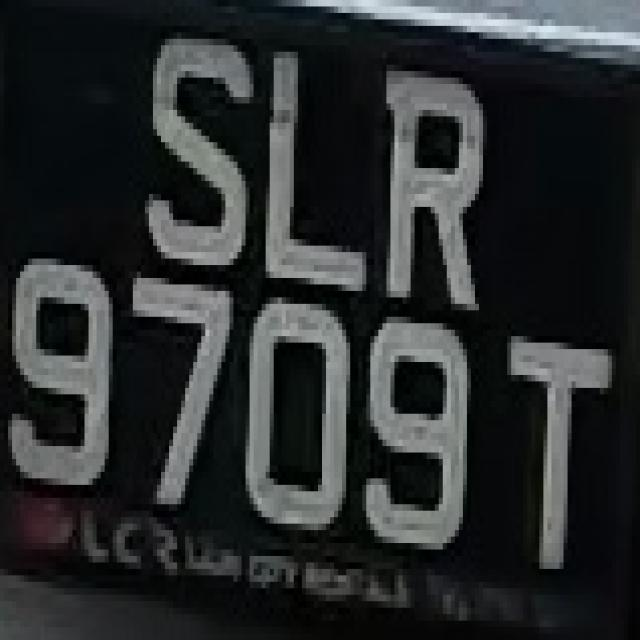0: (222, 284, 354, 550)
7: (109, 259, 234, 517)
9: (362, 291, 479, 575), (12, 220, 113, 511)
L: (262, 39, 366, 297)
R: (358, 52, 499, 323)
S: (137, 26, 249, 284)
T: (491, 297, 620, 595)
